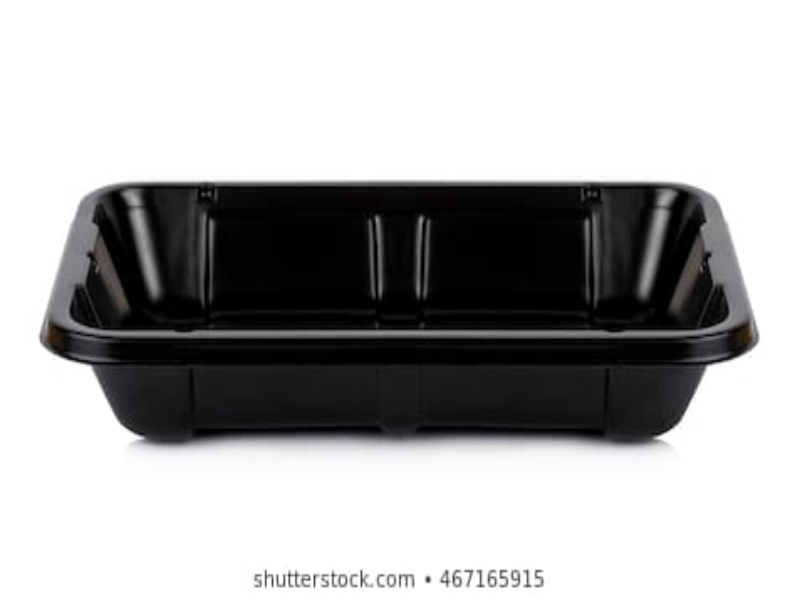plastic-container: (40, 176, 763, 443)
